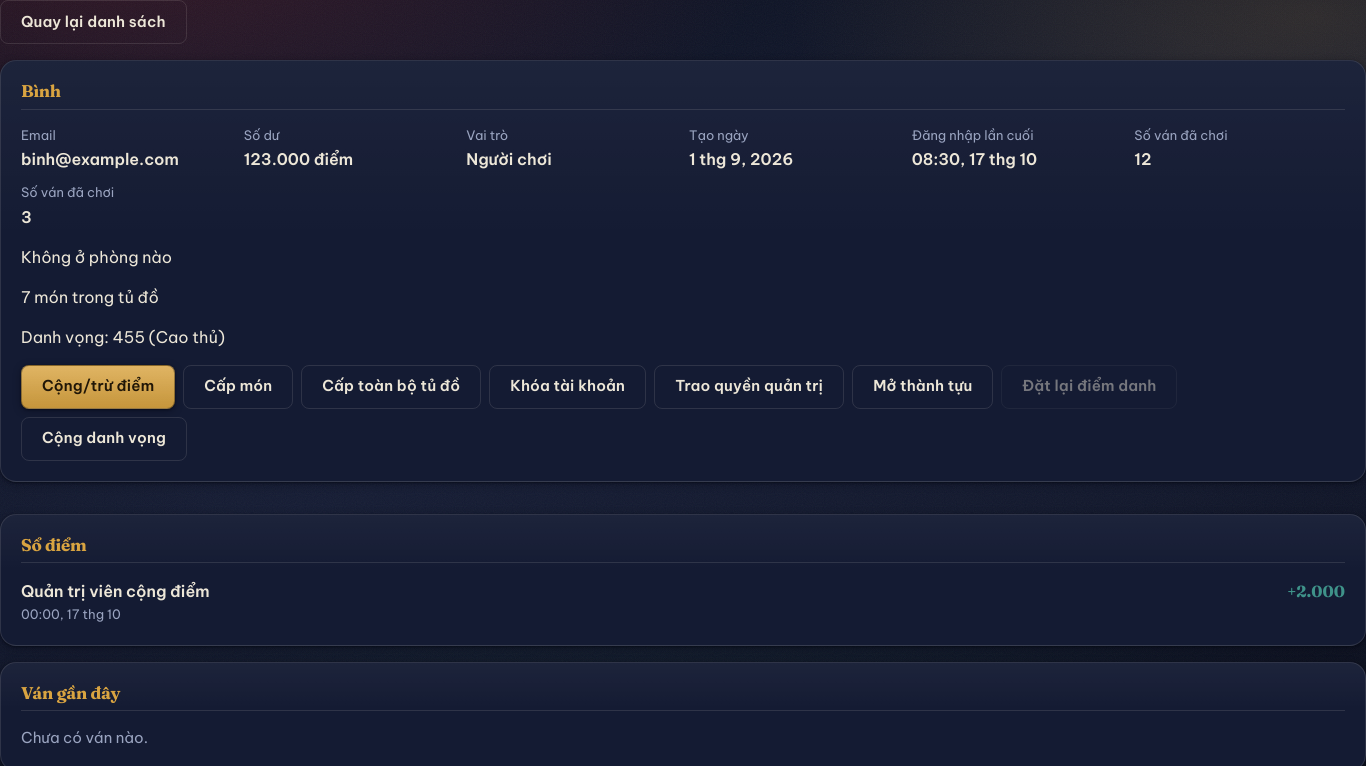
Test: PlayerDetail › reloads the ledger after an action so the new row is there
The image size is (1366, 766).
Expected: the text "binh@example.com" is shown, x1=21 y1=149 x2=179 y2=169
Click the button "Cấp toàn bộ tủ đồ". click: (391, 386)
box: x1=301 y1=364 x2=481 y2=408
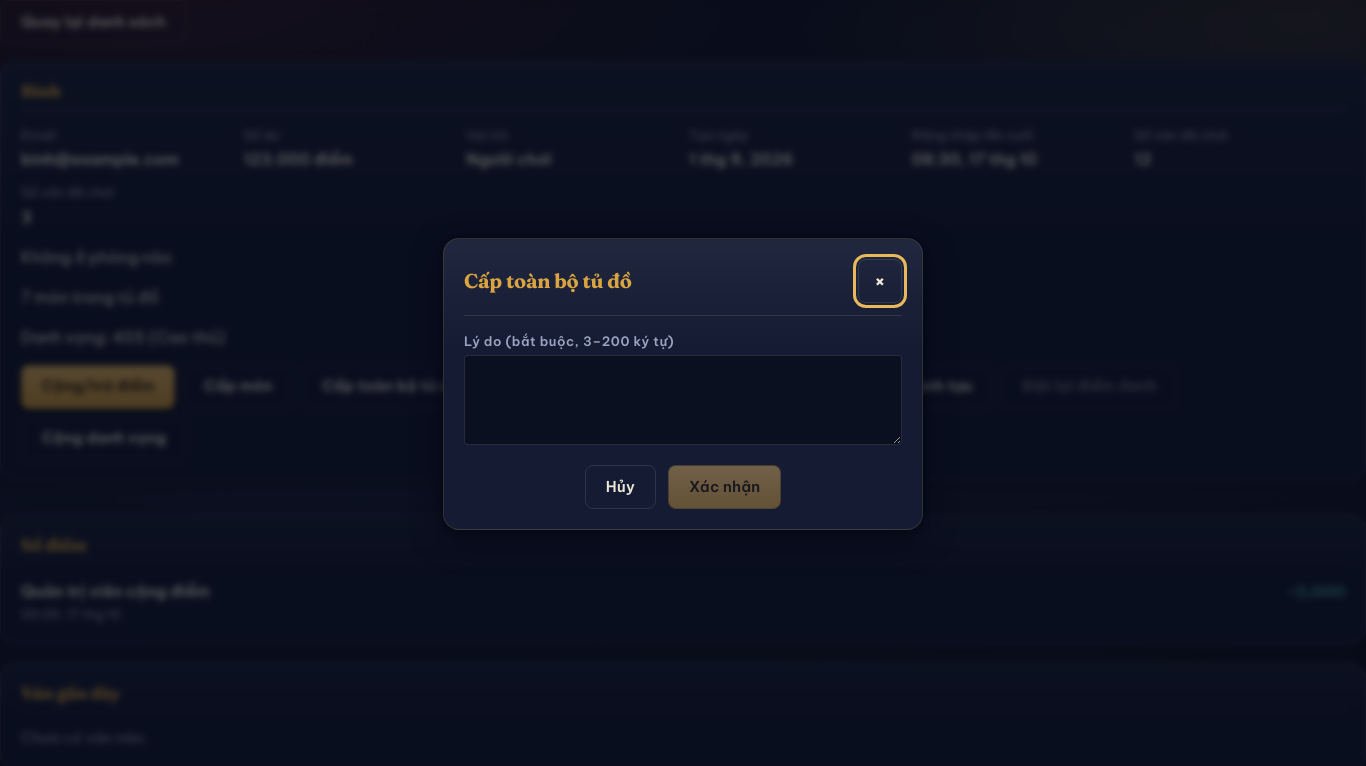
Type "quà" into the text box labelled "Lý do (bắt buộc, 3–200 ký tự)". click: (683, 400)
box: x1=464 y1=355 x2=902 y2=445
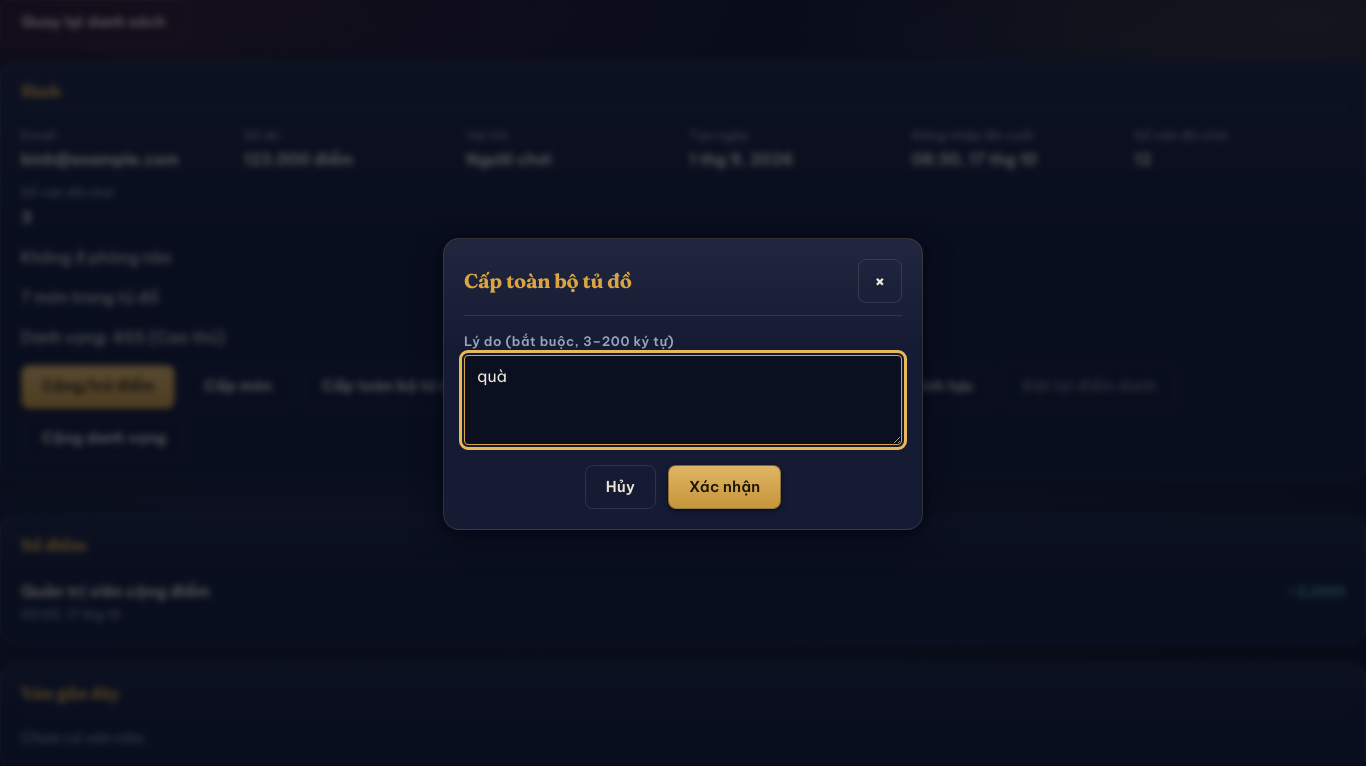
Click the button "Xác nhận". click: (725, 487)
box: x1=668 y1=465 x2=781 y2=509
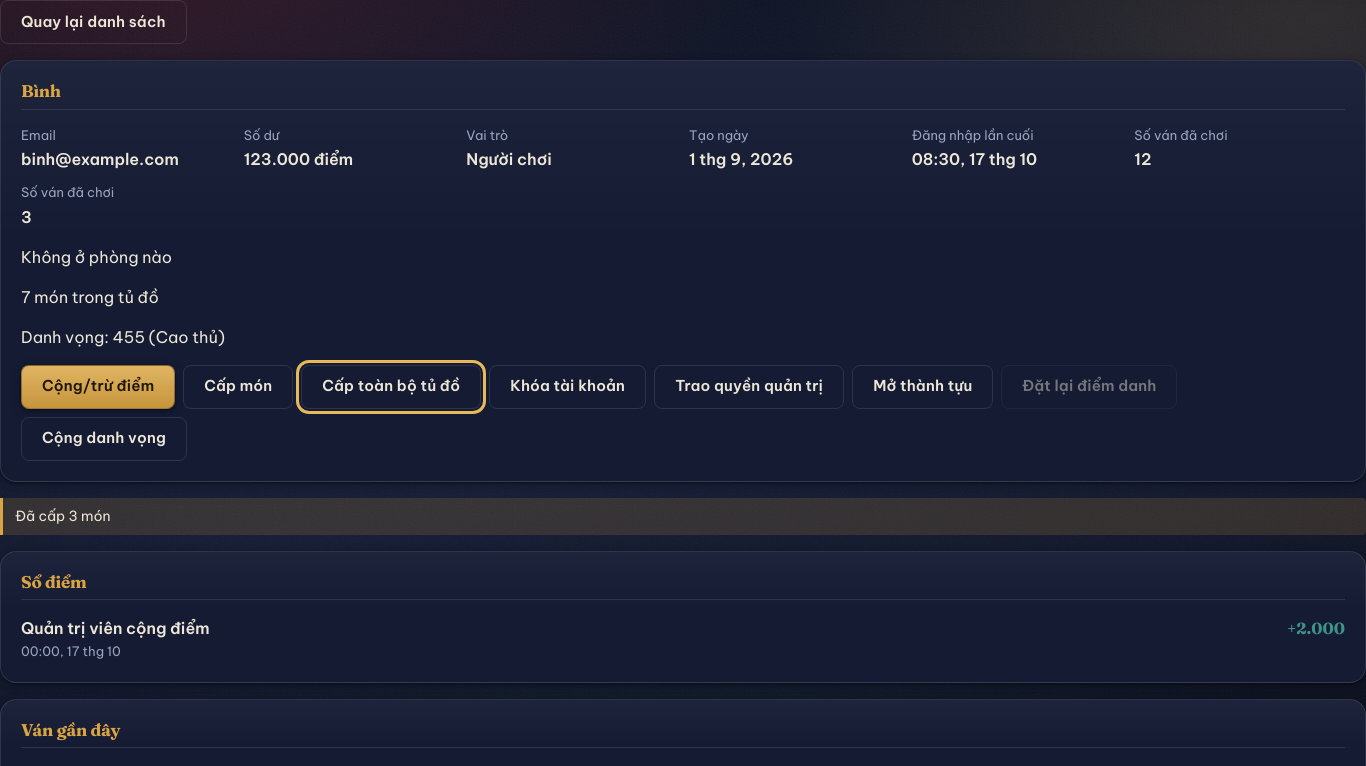
Result: the text "Đã cấp 3 món" is shown at x1=0 y1=498 x2=1365 y2=534
